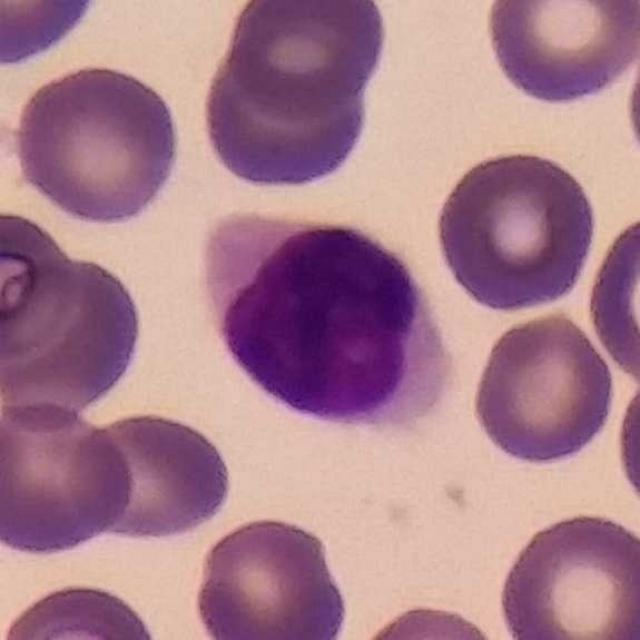Lymphocyte: (204, 207, 456, 439)
RBC: (8, 58, 186, 229), (430, 145, 601, 316), (194, 47, 378, 198), (0, 243, 150, 419), (467, 307, 620, 469), (71, 405, 237, 548), (0, 395, 138, 559), (189, 510, 355, 640), (218, 0, 394, 119), (492, 506, 640, 640), (480, 0, 639, 109), (0, 203, 80, 365), (0, 575, 166, 640), (581, 206, 640, 385), (0, 0, 112, 73), (344, 599, 515, 640), (610, 360, 640, 528), (621, 20, 640, 177)
